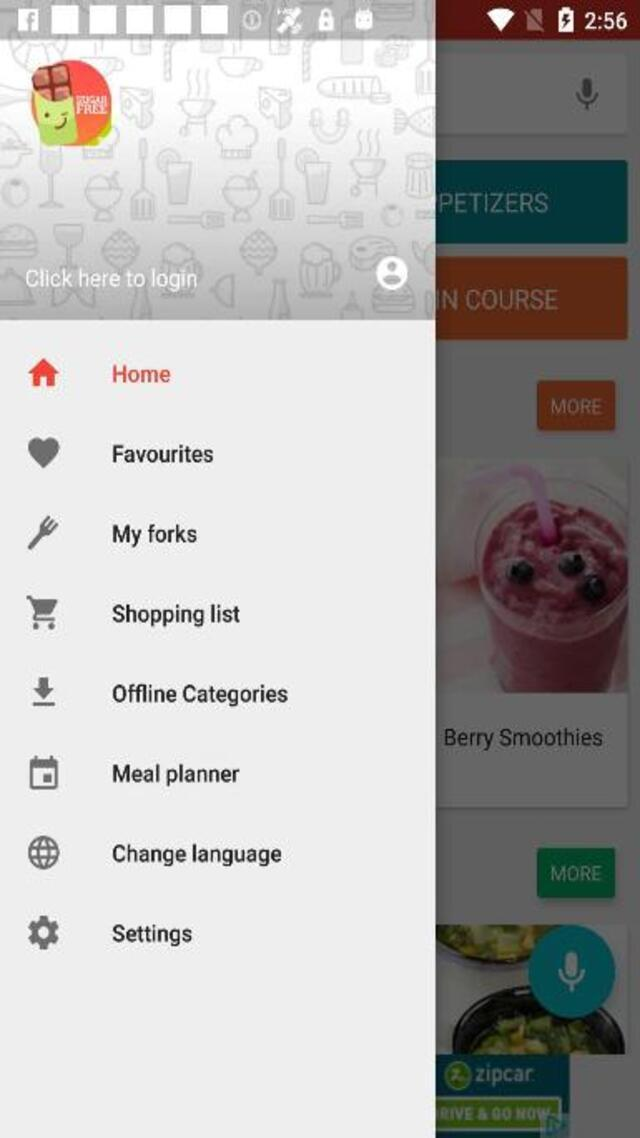Icon: (376, 256, 408, 292), (27, 514, 59, 550), (27, 914, 59, 949), (26, 835, 59, 868), (26, 437, 59, 470), (26, 594, 58, 628), (28, 754, 58, 788), (27, 356, 59, 386), (32, 677, 54, 706)
Image: (1, 41, 435, 318), (31, 60, 112, 146)
Text: (112, 682, 287, 707), (113, 844, 283, 867), (26, 268, 197, 290), (112, 603, 240, 628), (113, 764, 239, 787), (112, 522, 197, 548), (113, 444, 213, 464), (112, 924, 192, 947), (112, 364, 170, 384)
